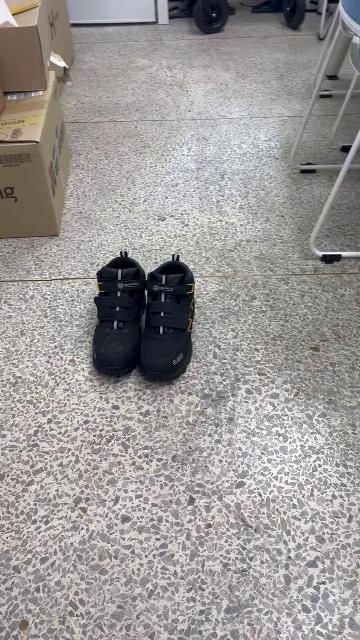shoe_worn: (92, 251, 147, 382), (145, 253, 196, 381)
